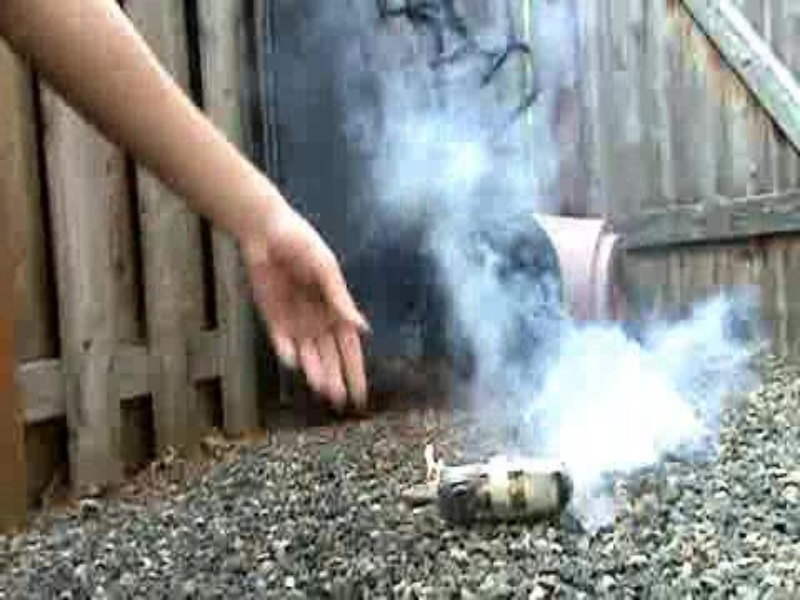smoke: (363, 41, 558, 379)
